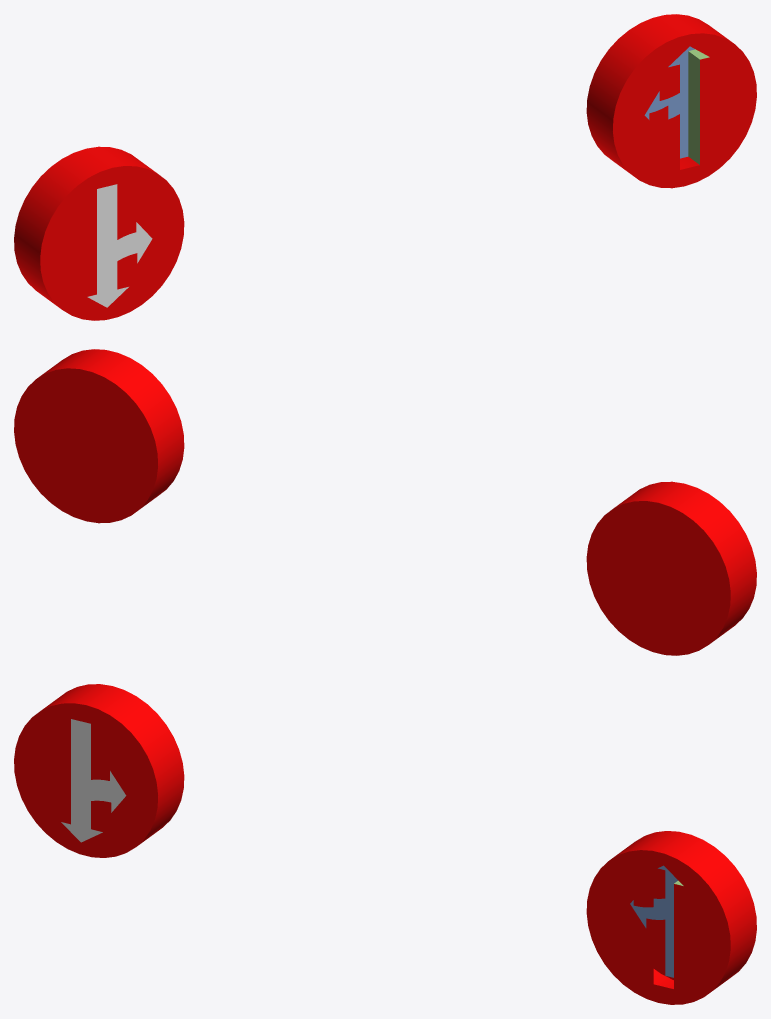
3 renders of one model, top to bottom at view 1: azimuth 30°, elevation 25°; view 2: azimuth 150°, elevation 25°; view 3: azimuth 330°, elevation 25°, orthographic.
Parts seen in each view (by area): view 1: Surface 66, Surface 376, Surface 370, Surface 61, Surface 3, Surface 4; view 2: Surface 66, Surface 376; view 3: Surface 66, Surface 376, Surface 370, Surface 61.
Boxes of the visible parts, bbox=[...] form: Surface 66: bbox=[586, 14, 756, 188]; Surface 376: bbox=[14, 146, 184, 320]; Surface 370: bbox=[87, 184, 152, 307]; Surface 61: bbox=[644, 46, 694, 158]; Surface 3: bbox=[688, 51, 699, 164]; Surface 4: bbox=[688, 52, 699, 164]; Surface 66: bbox=[14, 349, 184, 523]; Surface 376: bbox=[586, 481, 756, 655]; Surface 66: bbox=[586, 831, 756, 1004]; Surface 376: bbox=[14, 684, 184, 857]; Surface 370: bbox=[61, 719, 126, 842]; Surface 61: bbox=[630, 865, 677, 977].
Size of the model in its own units: 0.0533 by 0.0112 by 0.00337.
